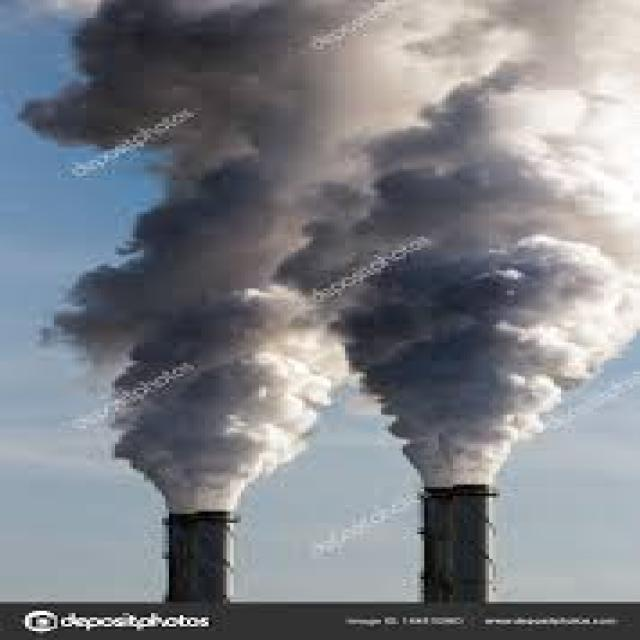Smoke: (15, 0, 639, 517)
